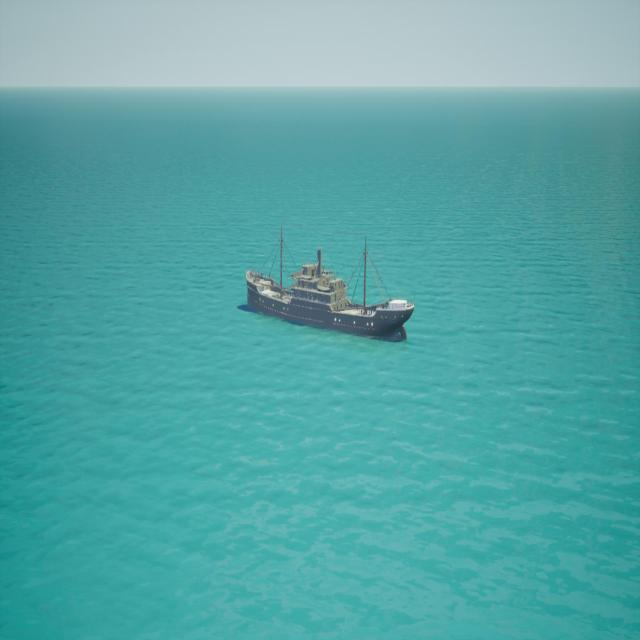fishing ship: (243, 229, 415, 343)
